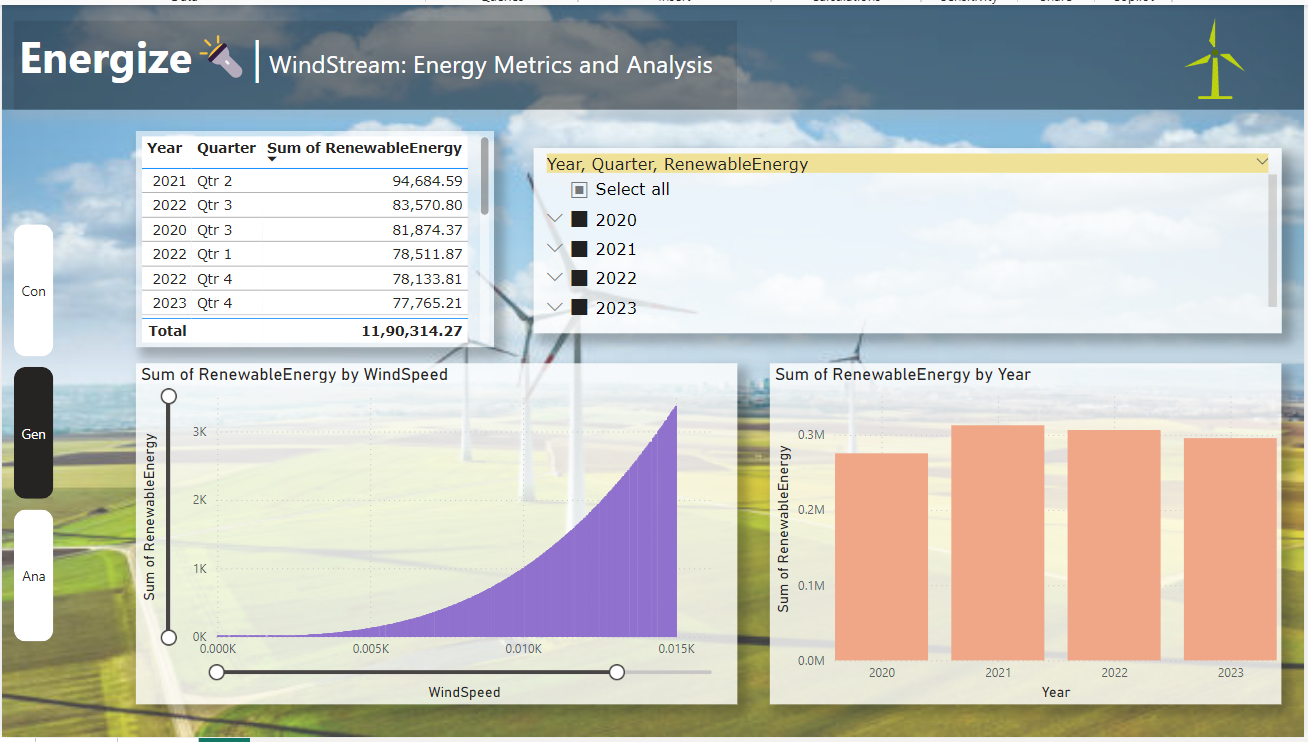

What the dashboard file says about the page in this screenshot:
{"tool":"powerbi","page":{"name":"Gen","canvas":[1280,720],"ordinal":1},"visuals":[{"type":"tableEx","fields":{"Values":["Energy.Date.Variation.Date Hierarchy.Year","Energy.Date.Variation.Date Hierarchy.Quarter","Sum(Energy.RenewableEnergy)"]},"box":[131.6,123.9,352.2,212.9],"z":0},{"type":"lineClusteredColumnComboChart","fields":{"Category":["Energy.WindSpeed"],"Y":["Sum(Energy.RenewableEnergy)"]},"box":[131.6,352.2,590.9,335.4],"z":1000},{"type":"clusteredColumnChart","fields":{"Category":["Energy.Date.Variation.Date Hierarchy.Year","Energy.Date.Variation.Date Hierarchy.Quarter"],"Y":["Sum(Energy.RenewableEnergy)"]},"box":[754.7,352.2,503.1,335.4],"z":2000},{"type":"pageNavigator","box":[11.6,215.4,40,411.5],"z":3000},{"type":"shape","box":[0,0,1279.8,103.2],"z":4000},{"type":"image","box":[1143,5.2,98,94.2],"z":5000},{"type":"textbox","box":[11.6,15.5,710.8,87.7],"z":6000},{"type":"slicer","fields":{"Values":["Energy.Date.Variation.Date Hierarchy.Year","Energy.Date.Variation.Date Hierarchy.Quarter","Energy.RenewableEnergy"]},"box":[522.5,140.6,735.4,181.9],"z":7000}]}

Visuals, with their boxes on the page's 1280x720 design canvas (x1, y1, x2, y2). These are canvas units, not pixel positions in the 1308x742 screenshot, which may show the page scaled, cropped or inside an application window:
tableEx - Energy.Date.Variation.Date Hierarchy.Year x Energy.Date.Variation.Date Hierarchy.Quarter: [132,124,484,337]
lineClusteredColumnComboChart - Energy.WindSpeed x Sum(Energy.RenewableEnergy): [132,352,722,688]
clusteredColumnChart - Energy.Date.Variation.Date Hierarchy.Year x Energy.Date.Variation.Date Hierarchy.Quarter: [755,352,1258,688]
pageNavigator: [12,215,52,627]
shape: [0,0,1280,103]
image: [1143,5,1241,99]
textbox: [12,16,722,103]
slicer - Energy.Date.Variation.Date Hierarchy.Year x Energy.Date.Variation.Date Hierarchy.Quarter: [522,141,1258,322]
